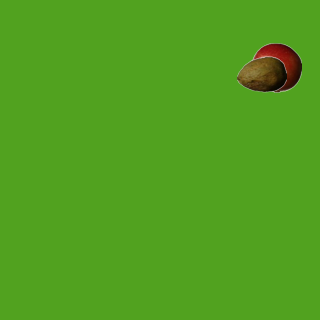Apple Braeburn: (251, 42, 301, 92)
Papaya: (236, 49, 286, 99)
